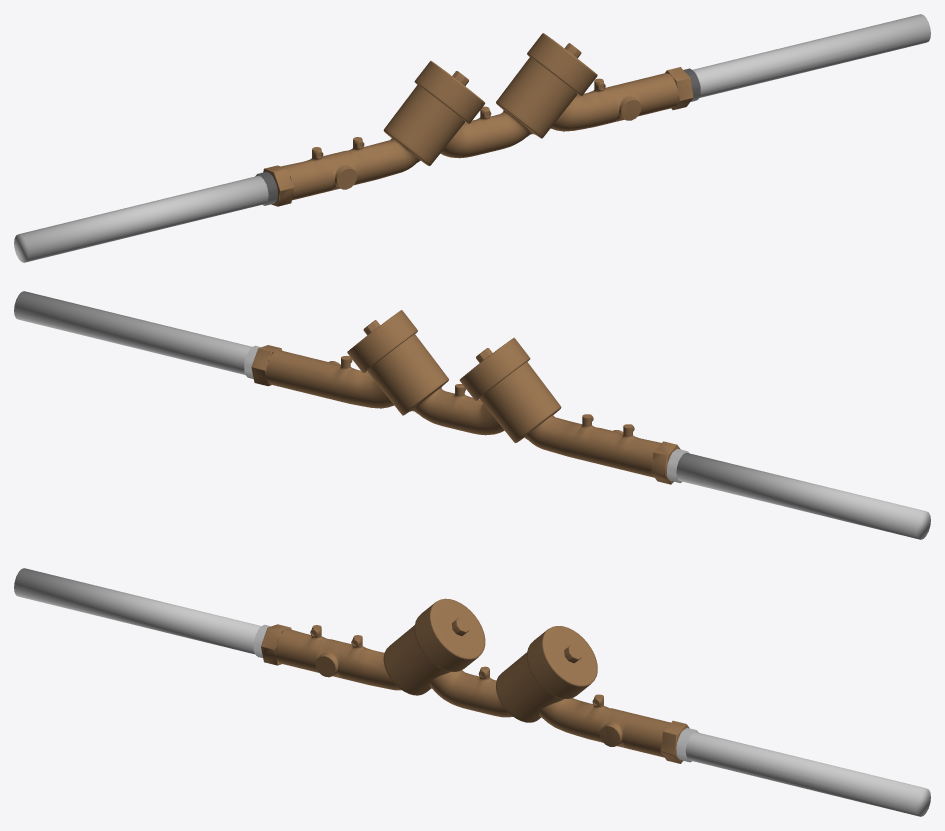
Rendered from RPZUpperBody.fbx.
3 views of the same model, one above another, from view 1: azimuth 30°, elevation 25°; view 2: azimuth 150°, elevation 25°; view 3: azimuth 330°, elevation 25° (orthographic).
Parts seen in each view (by area): view 1: RPZUpperBody_Baked; view 2: RPZUpperBody_Baked; view 3: RPZUpperBody_Baked.
Boxes of the visible parts, left/top/right/bottom form: RPZUpperBody_Baked: left=14, top=14, right=930, bottom=262; RPZUpperBody_Baked: left=14, top=291, right=930, bottom=539; RPZUpperBody_Baked: left=14, top=568, right=930, bottom=816.
Bounding box in the file's own units: 107 × 11.37 × 7.18.
1 material, 1 textured.
